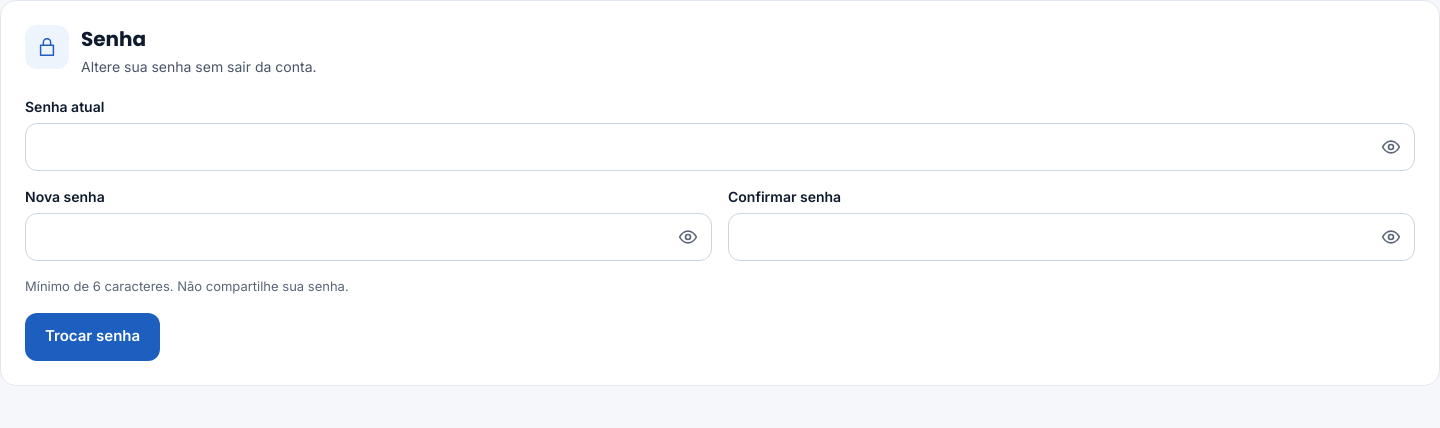
valida nova e confirmação sem enviar: nova123/outra123
This screenshot has width=1440, height=428.
Type "atual123" into the password field labelled "Senha atual" at (720, 147), box [25,123,1415,171]
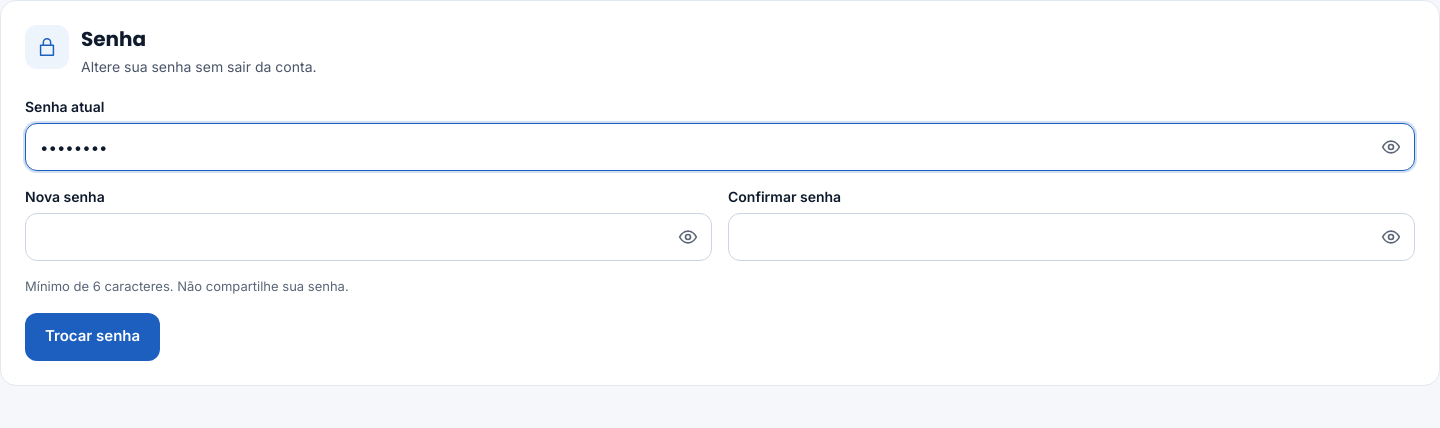
Type "nova123" into the password field labelled "Nova senha" at (368, 237), box [25,213,712,261]
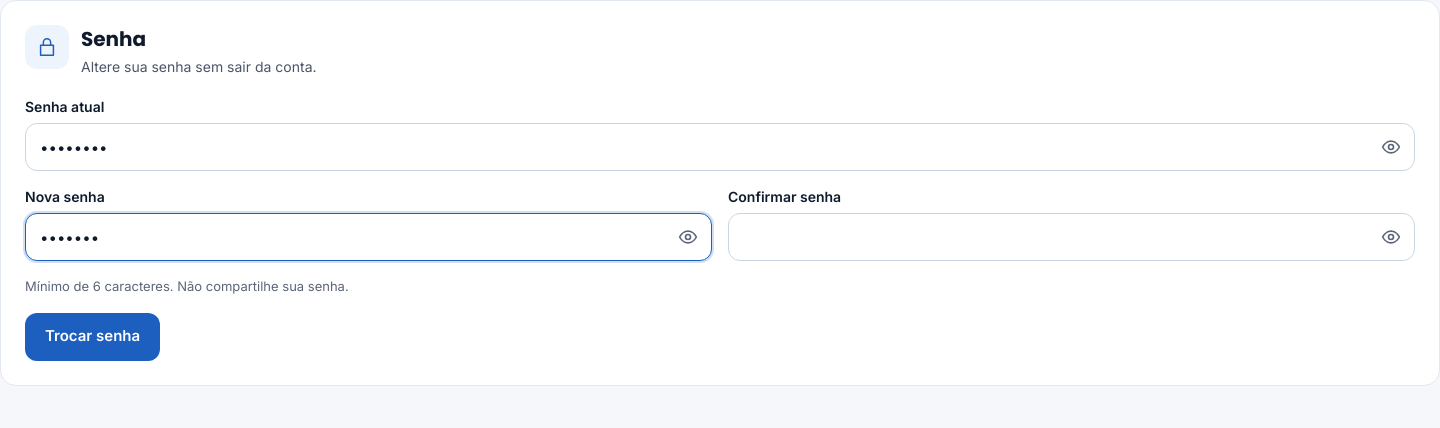
Type "outra123" into the password field labelled "Confirmar senha" at (1072, 237), box [728,213,1415,261]
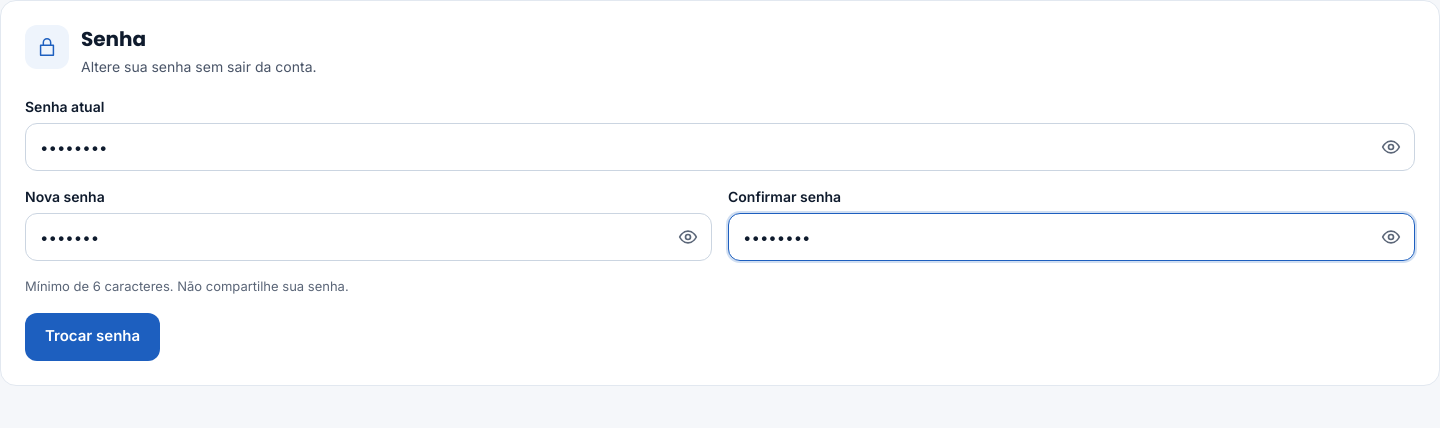
Click the button "Trocar senha" at (93, 336), box [25,312,160,360]
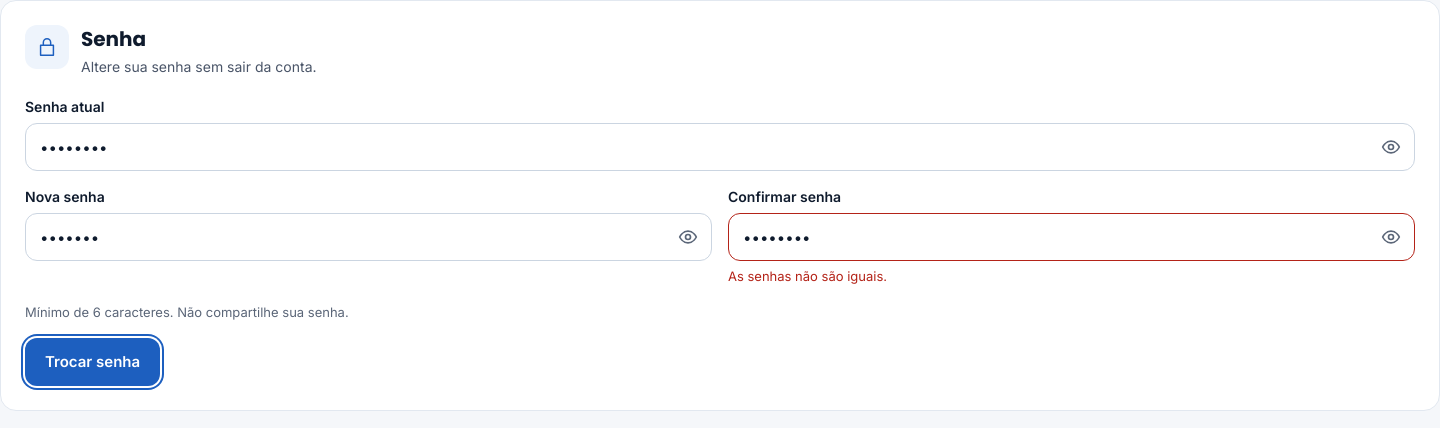
Result: the text "As senhas não são iguais." is shown at [728,268,887,284]
